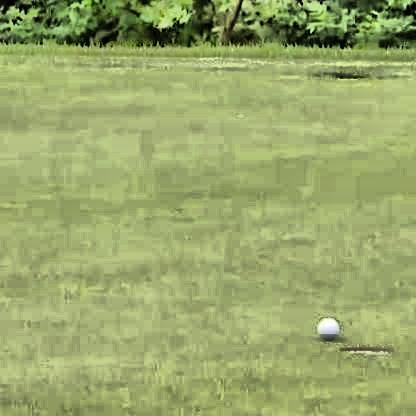golfball: (314, 314, 337, 339)
